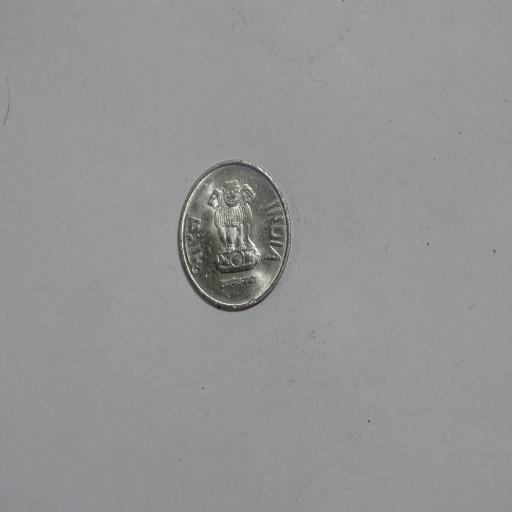rupee1: (175, 157, 294, 314)
